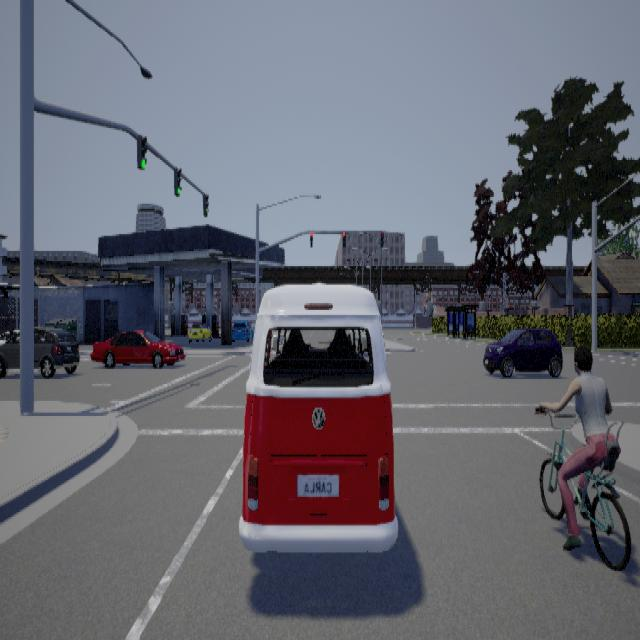bike: (528, 338, 640, 574)
green_light: (138, 133, 148, 168), (175, 165, 183, 195), (204, 192, 210, 216)
red_light: (381, 229, 385, 246), (311, 229, 314, 246), (344, 229, 347, 246)
vehicle: (233, 281, 399, 551), (1, 317, 81, 377), (484, 326, 564, 376), (91, 329, 187, 367)
